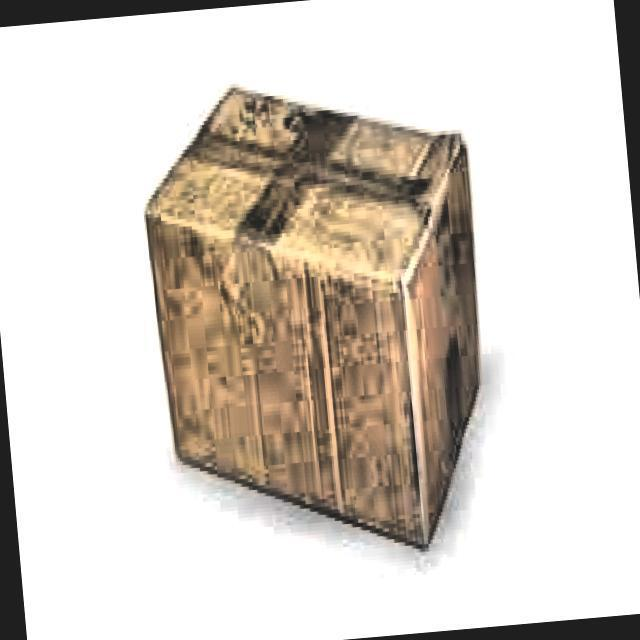cardboard: (130, 60, 502, 570)
